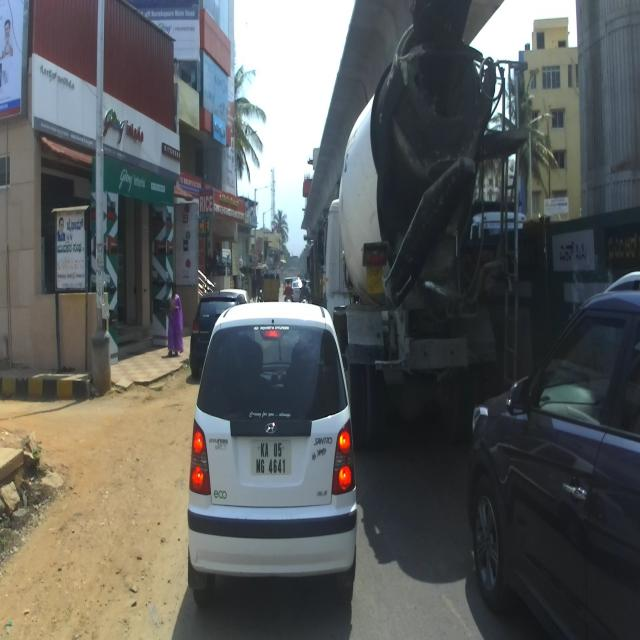Car_Hyundai: (466, 269, 640, 639), (191, 296, 362, 604)
Car_Volkswagen: (189, 291, 247, 380)
truck: (318, 0, 522, 451)
